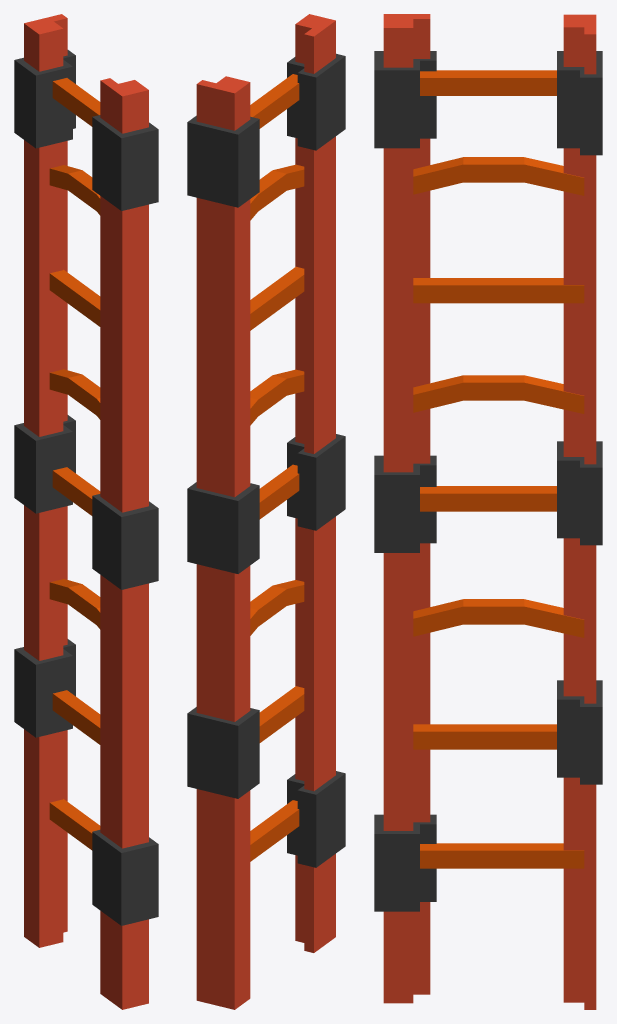
File: ladder.fbx
3 renders of one model, left to right at view 1: azimuth 30°, elevation 25°; view 2: azimuth 150°, elevation 25°; view 3: azimuth 270°, elevation 25°, orthographic. The views are drawn at different scales.
Parts seen in each view (by area): view 1: Cube.001, Cube, Cube.013, Cube.011, Cube.014, Cube.012, Cube.015, Cube.010, Cube.003, Cube.008, Cube.006, Cube.007 (+4 smaller); view 2: Cube, Cube.001, Cube.010, Cube.015, Cube.012, Cube.011, Cube.014, Cube.013, Cube.003, Cube.006, Cube.007, Cube.009 (+4 smaller); view 3: Cube.001, Cube, Cube.011, Cube.013, Cube.014, Cube.007, Cube.005, Cube.006, Cube.003, Cube.009, Cube.010, Cube.012 (+4 smaller).
Part boxes in pixels (x1,y1,x2,y2): Cube.001: [100, 78, 148, 1009]; Cube: [24, 14, 67, 947]; Cube.013: [92, 494, 158, 589]; Cube.011: [92, 115, 158, 210]; Cube.014: [92, 830, 158, 925]; Cube.012: [14, 415, 75, 513]; Cube.015: [14, 639, 75, 737]; Cube.010: [14, 50, 75, 148]; Cube.003: [49, 269, 100, 326]; Cube.008: [52, 690, 100, 744]; Cube.006: [49, 369, 100, 419]; Cube.007: [49, 579, 100, 629]; Cube: [196, 76, 250, 1009]; Cube.001: [295, 14, 335, 952]; Cube.010: [187, 115, 259, 207]; Cube.015: [187, 707, 259, 798]; Cube.012: [187, 482, 259, 573]; Cube.011: [287, 53, 345, 150]; Cube.014: [287, 771, 345, 867]; Cube.013: [287, 434, 345, 530]; Cube.003: [250, 266, 304, 330]; Cube.006: [250, 369, 304, 425]; Cube.007: [250, 580, 304, 635]; Cube.009: [250, 800, 299, 861]; Cube.001: [383, 14, 430, 1003]; Cube: [563, 14, 596, 1009]; Cube.011: [374, 51, 436, 148]; Cube.013: [374, 455, 436, 552]; Cube.014: [374, 814, 436, 911]; Cube.007: [413, 599, 584, 637]; Cube.005: [413, 157, 584, 195]; Cube.006: [413, 375, 584, 413]; Cube.003: [413, 278, 584, 303]; Cube.009: [420, 843, 584, 868]; Cube.010: [557, 51, 602, 155]; Cube.012: [557, 441, 602, 545].
Bounding box in the file's own units: 57.77 × 994 × 211.
